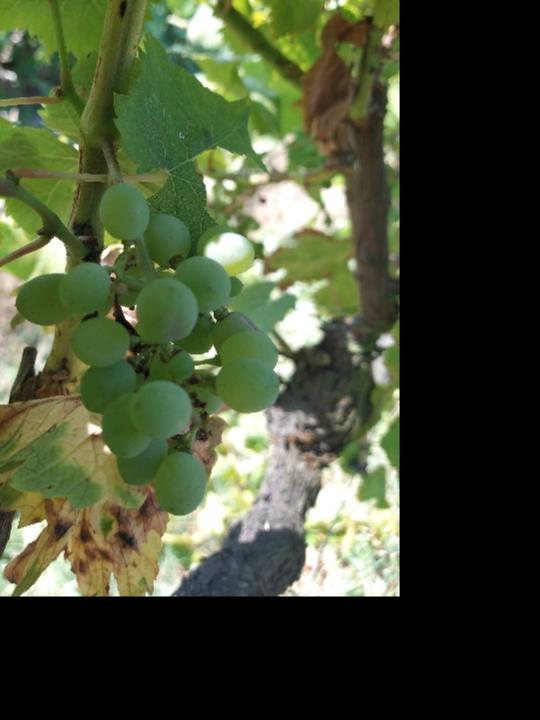grape: (14, 175, 284, 520)
